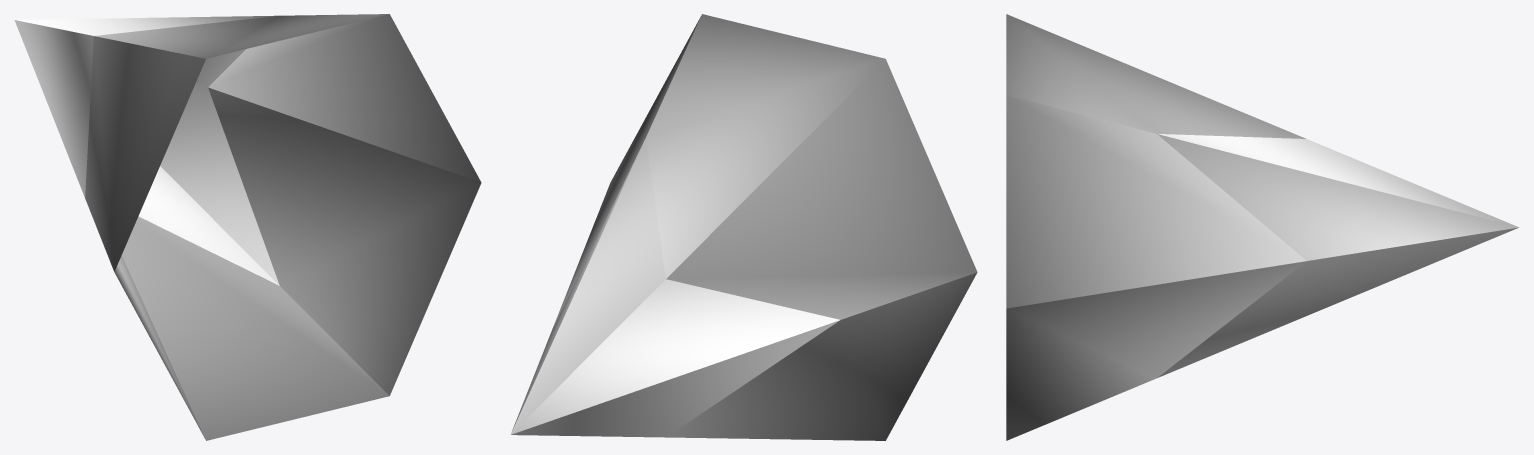
The model's file is Peak.fbx.
3 views of the same model, side by side, from view 1: azimuth 30°, elevation 25°; view 2: azimuth 150°, elevation 25°; view 3: azimuth 270°, elevation 25° (orthographic). The views are drawn at different scales.
Visible parts, largest first — view 1: Circle; view 2: Circle; view 3: Circle.
Boxes of the visible parts, bbox=[...] form: Circle: bbox=[14, 14, 481, 440]; Circle: bbox=[510, 14, 977, 440]; Circle: bbox=[1006, 14, 1519, 440].
Size of the model in its own units: 158 by 158 by 212.
